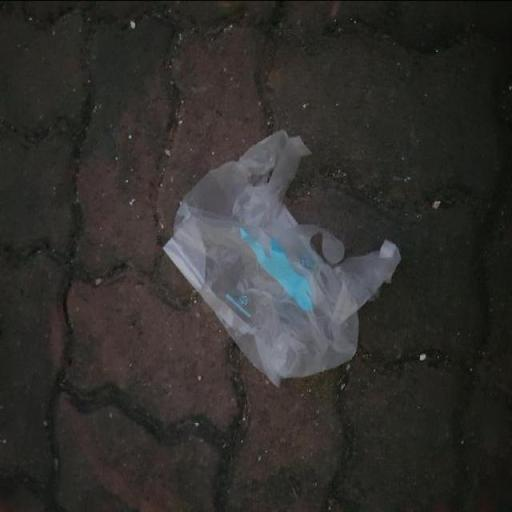plastic-bag: (164, 126, 413, 383)
